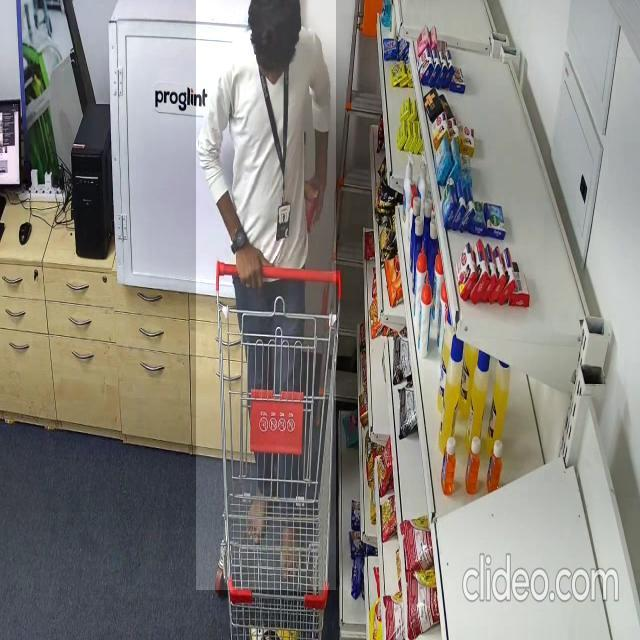Shoplifting: (196, 0, 336, 590)
